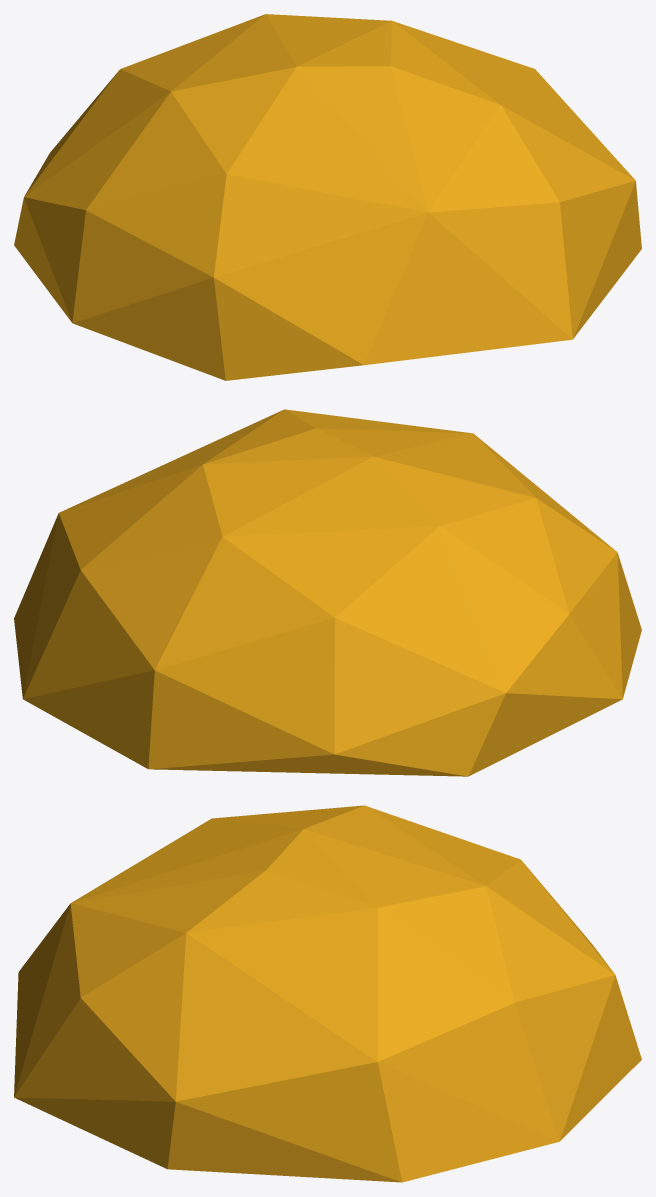
File: F_BreadTop.fbx
3 views of the same model, one above another, from view 1: azimuth 30°, elevation 25°; view 2: azimuth 150°, elevation 25°; view 3: azimuth 270°, elevation 25° (orthographic).
Parts seen in each view (by area): view 1: Sphere; view 2: Sphere; view 3: Sphere.
Boxes of the visible parts, x1,y1,x2,y2 form: Sphere: (14, 14, 641, 380); Sphere: (14, 409, 641, 776); Sphere: (14, 805, 641, 1182).
Bounding box in the file's own units: 16.55 × 5.88 × 16.39.
